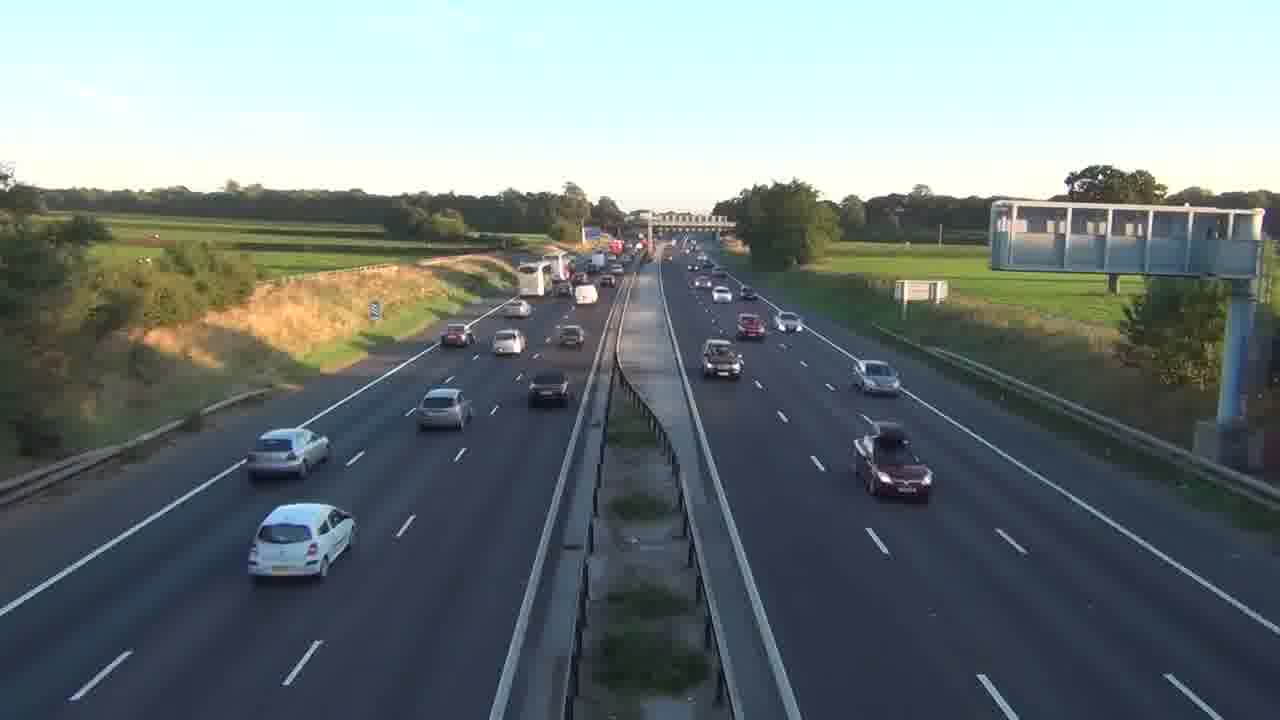car: (247, 501, 356, 583), (850, 430, 934, 503), (247, 427, 332, 480), (416, 386, 473, 430), (849, 357, 901, 396), (526, 369, 573, 408), (701, 337, 744, 379), (492, 328, 526, 357), (555, 323, 585, 348), (442, 324, 469, 347)
